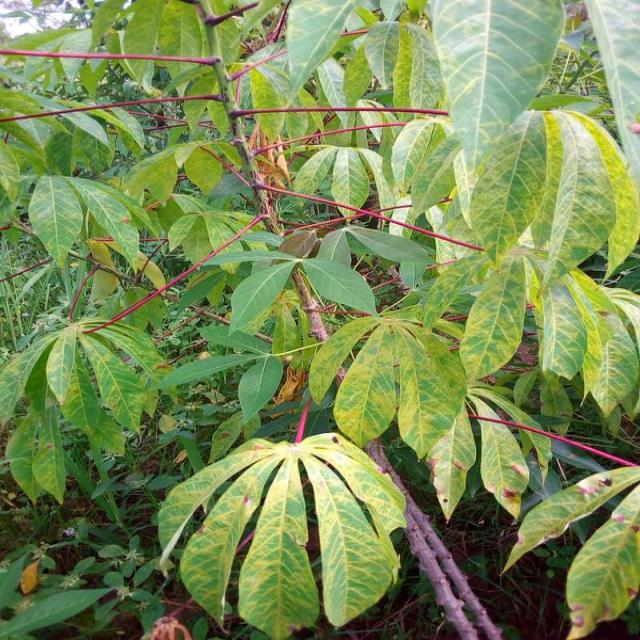cassava leaf: (1, 0, 638, 637), (156, 429, 408, 637)
